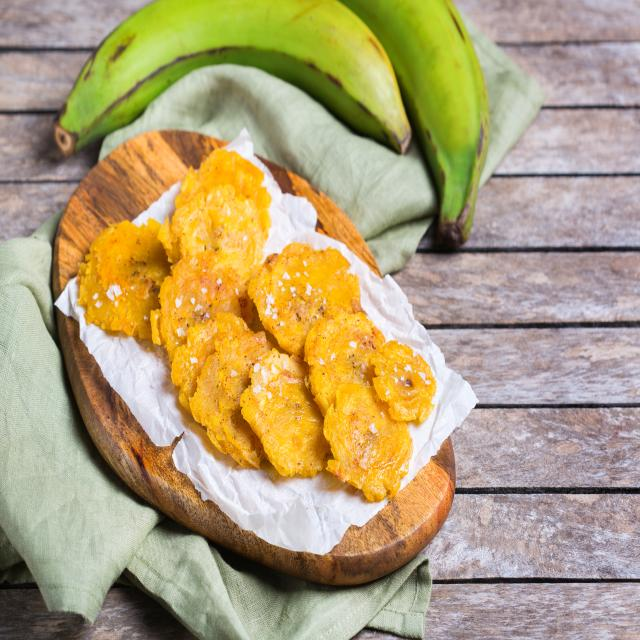platano: (167, 177, 263, 306), (324, 376, 416, 506)
